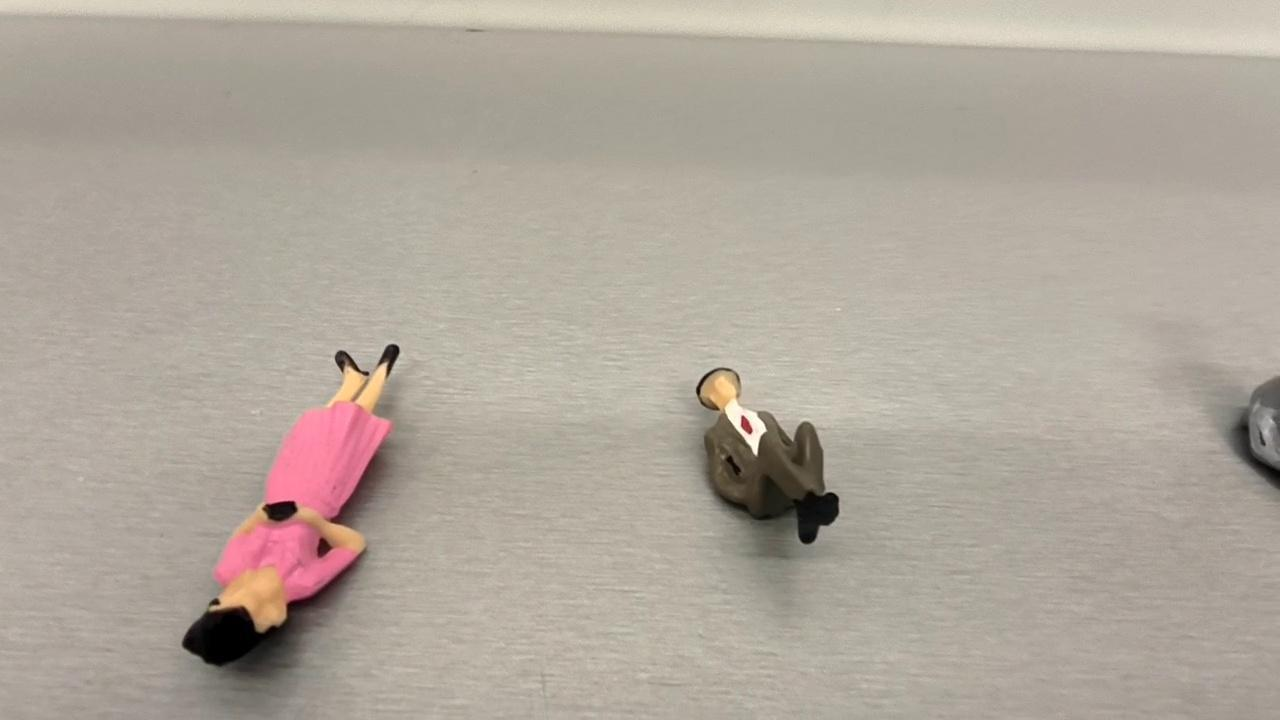human: (180, 342, 399, 669), (698, 366, 841, 545)
